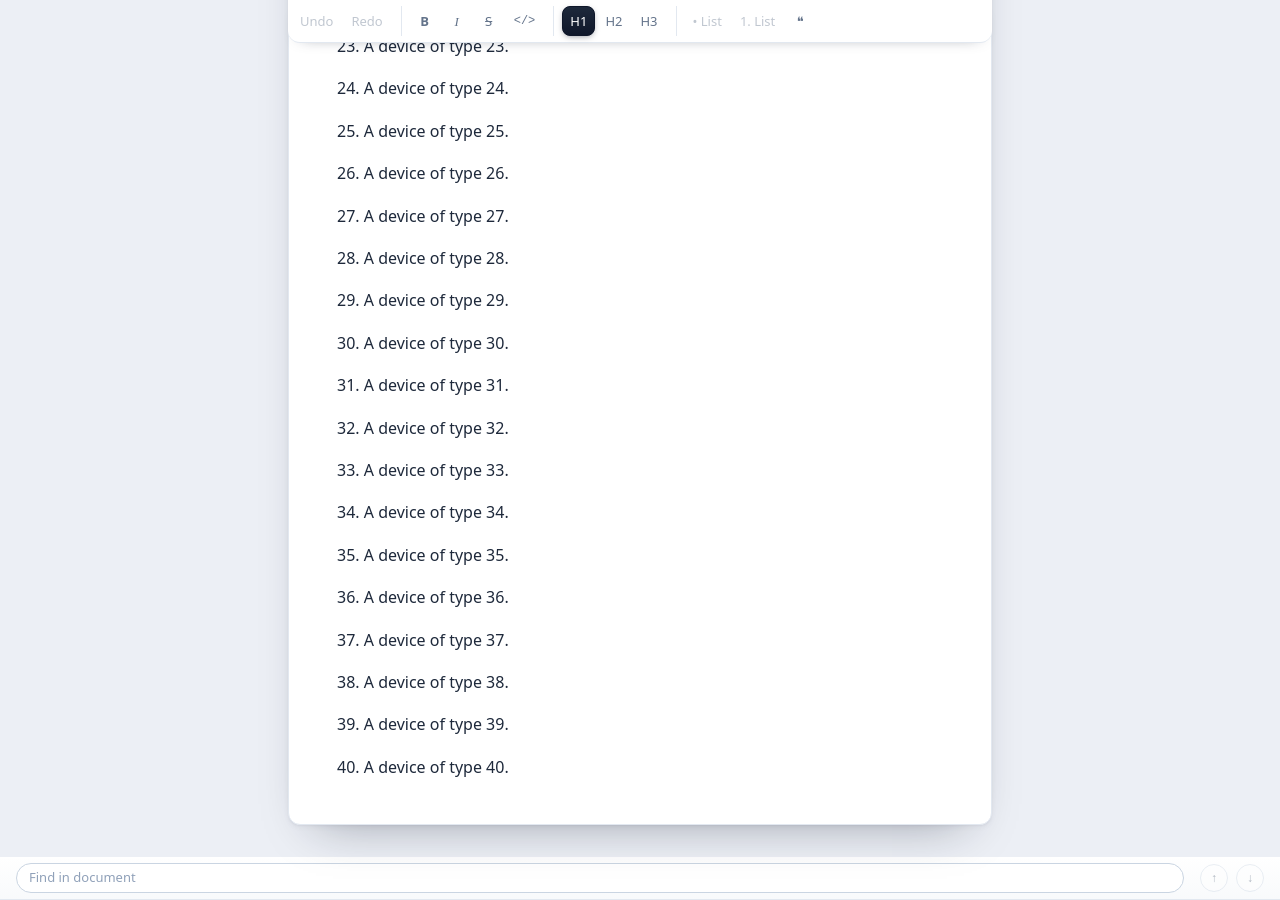
Test case: N4 FindBar › counts matches, steps through them, and leaves the document alone
(page scrolled)
In the search field labelled "Find in document": {"x": 600, "y": 878} x1=16 y1=863 x2=1184 y2=893, type "priming volume"
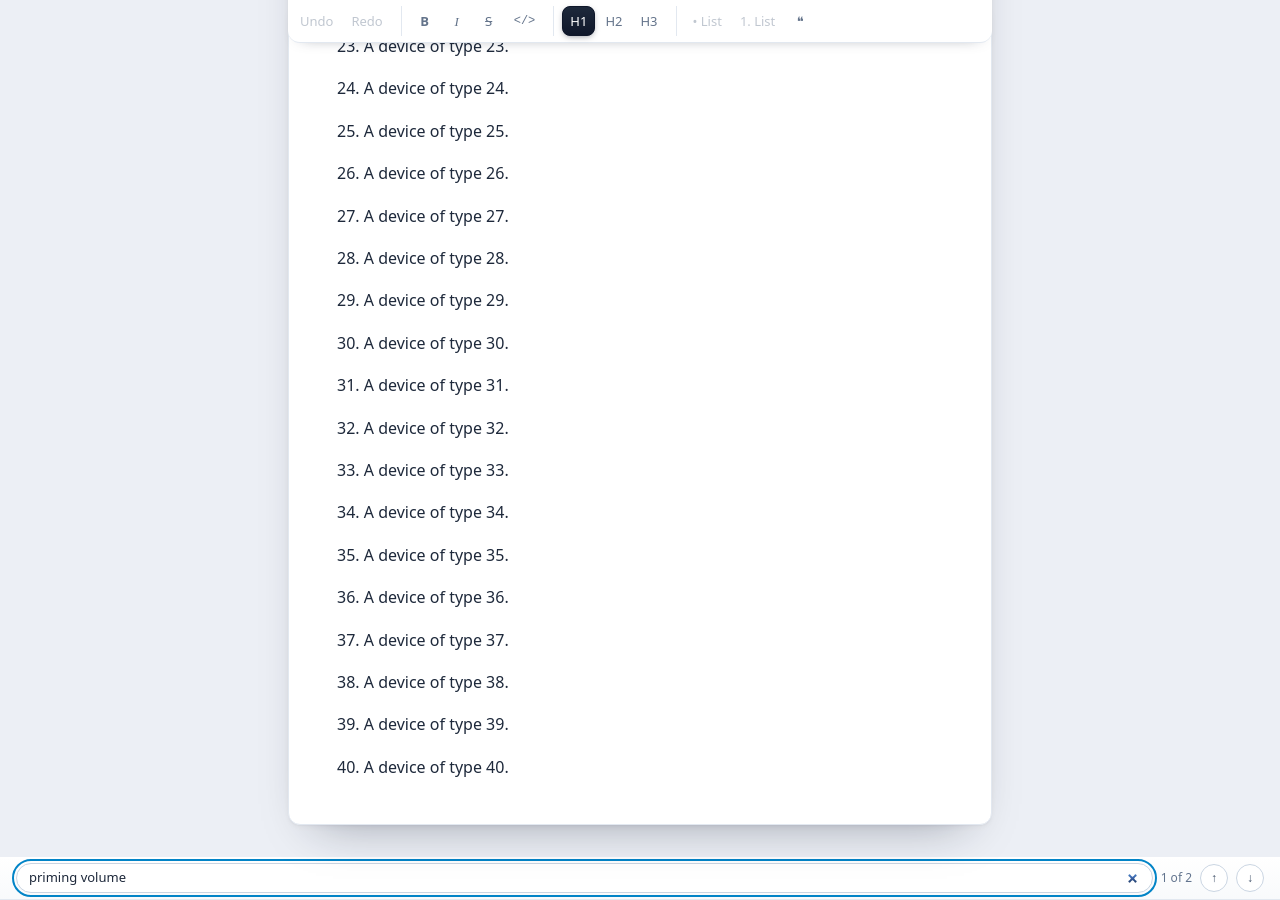
Result: the text "1 of 2" is shown at x1=1161 y1=869 x2=1192 y2=887
Click the button named "Next match": {"x": 1250, "y": 878} x1=1236 y1=864 x2=1264 y2=892
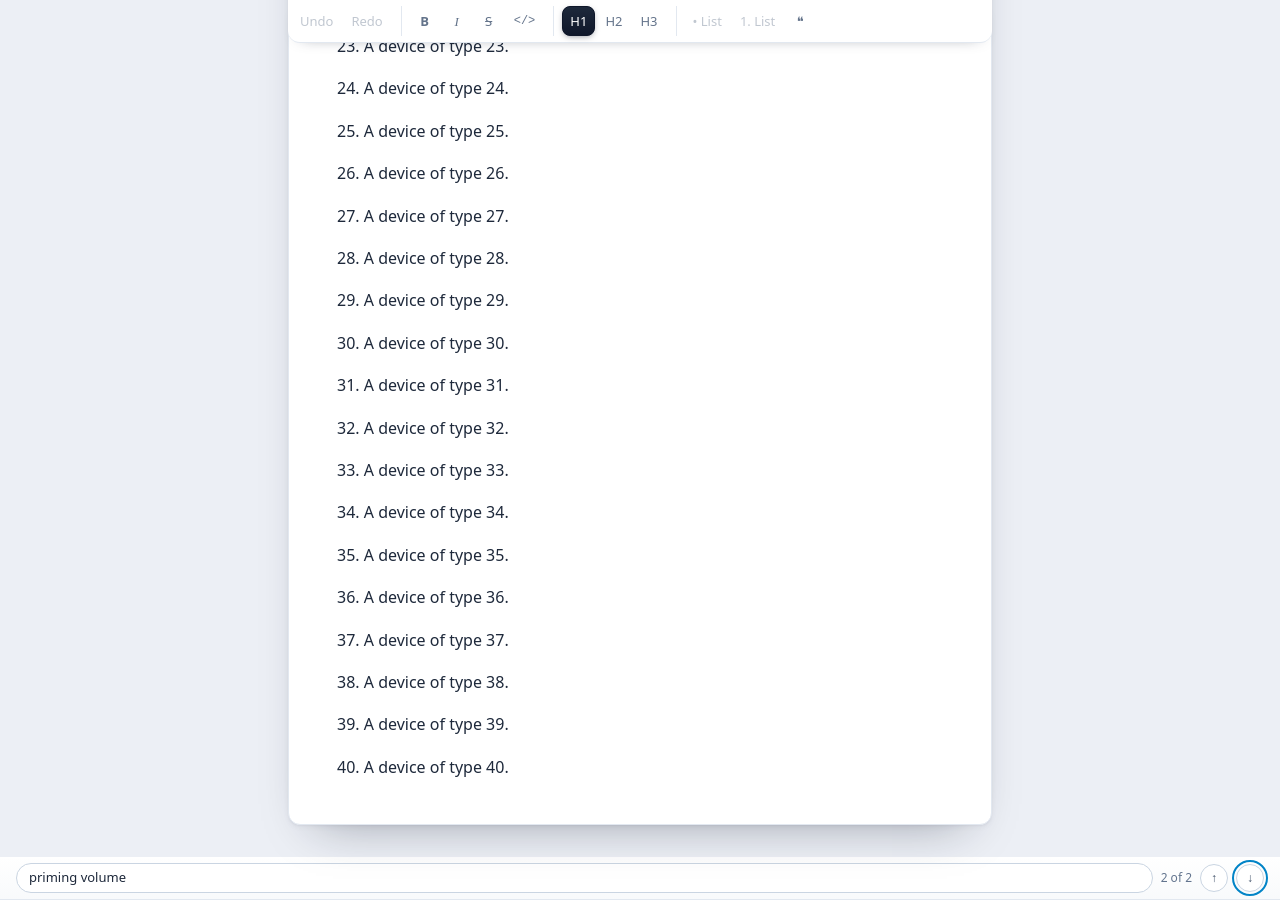
Result: the text "2 of 2" is shown at x1=1161 y1=869 x2=1192 y2=887
// Wraps rather than dead-ending, so "next" is always answerable.
Click the button named "Next match": {"x": 1250, "y": 878} x1=1236 y1=864 x2=1264 y2=892
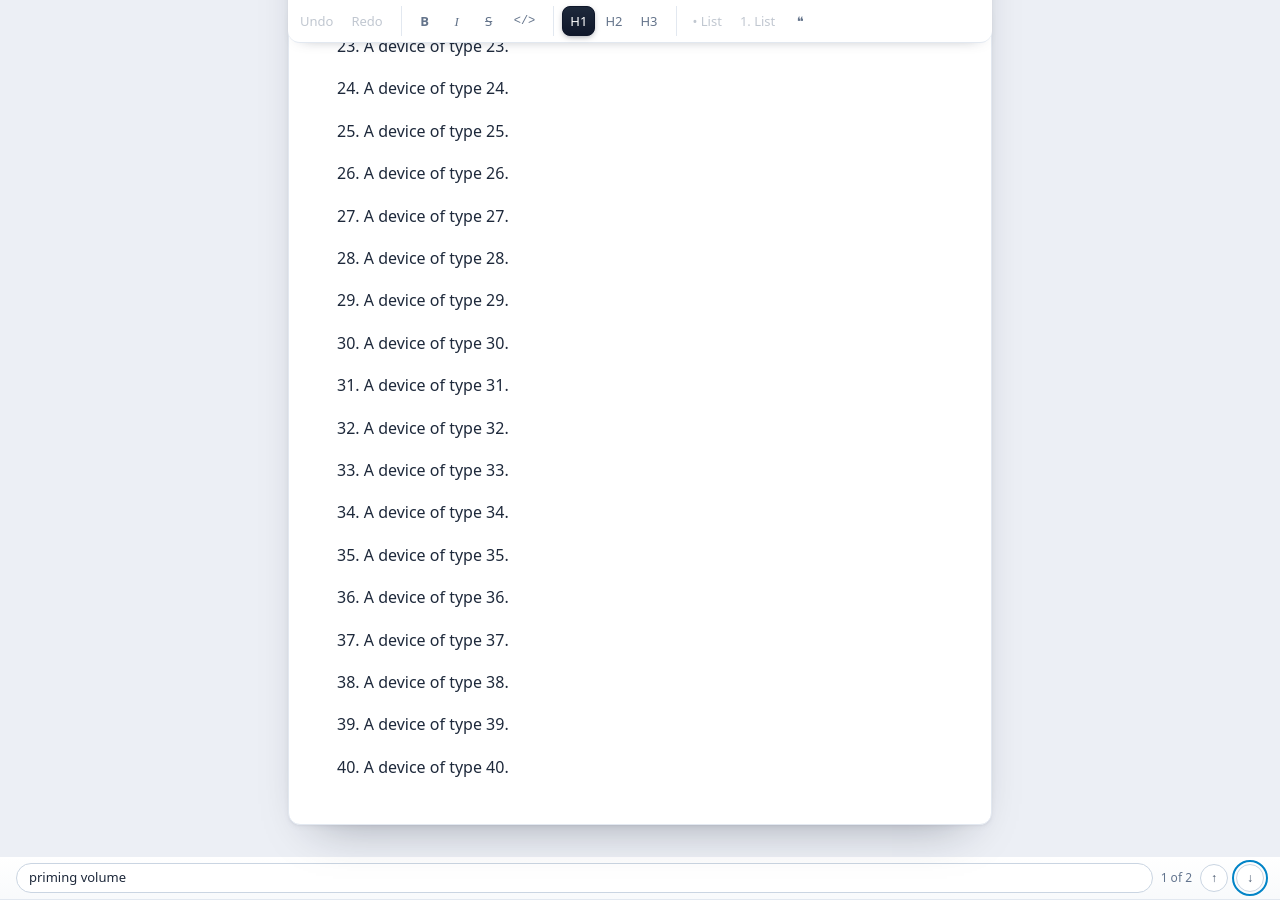
Result: the text "1 of 2" is shown at x1=1161 y1=869 x2=1192 y2=887
Click the button named "Previous match": {"x": 1214, "y": 878} x1=1200 y1=864 x2=1228 y2=892
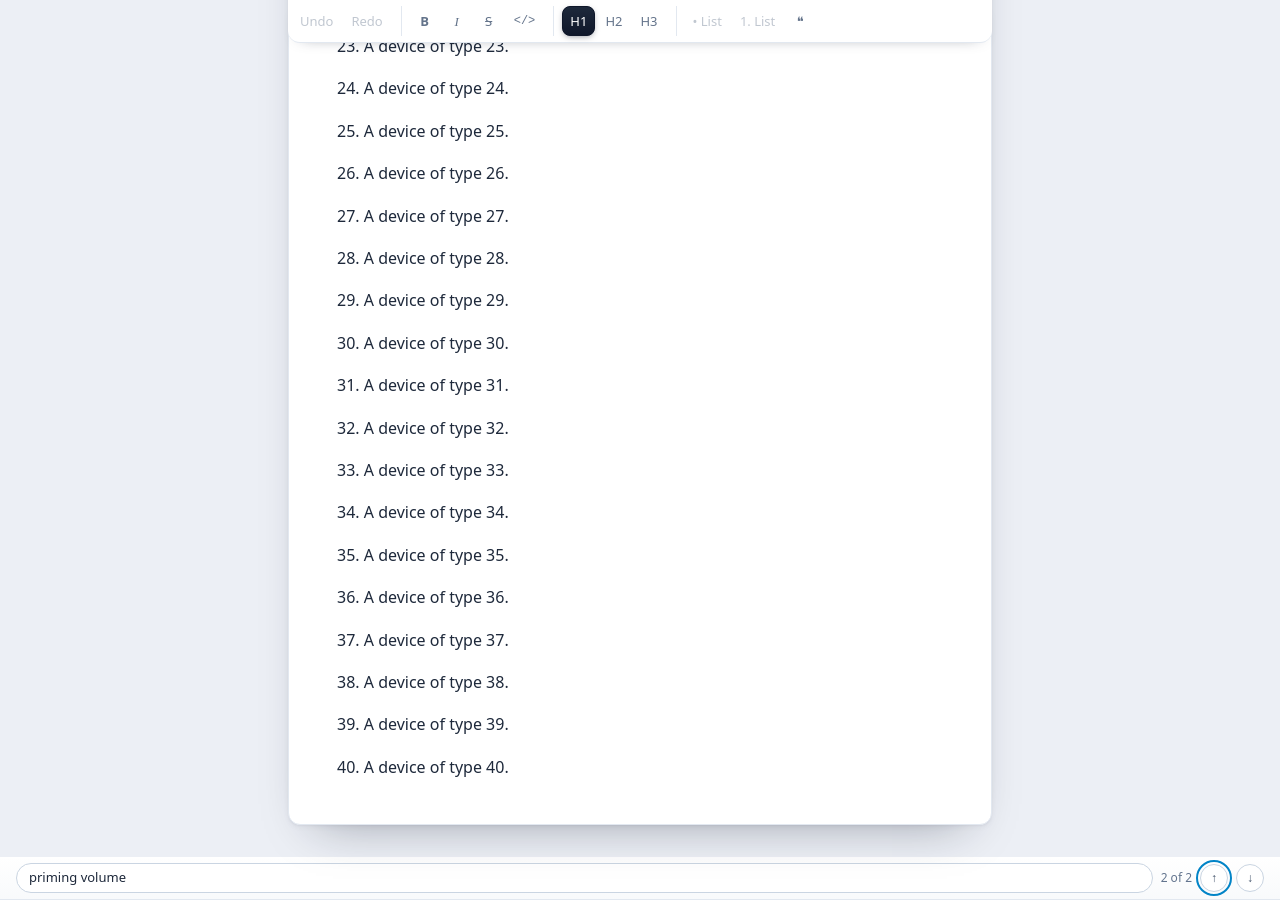
Result: the text "2 of 2" is shown at x1=1161 y1=869 x2=1192 y2=887
